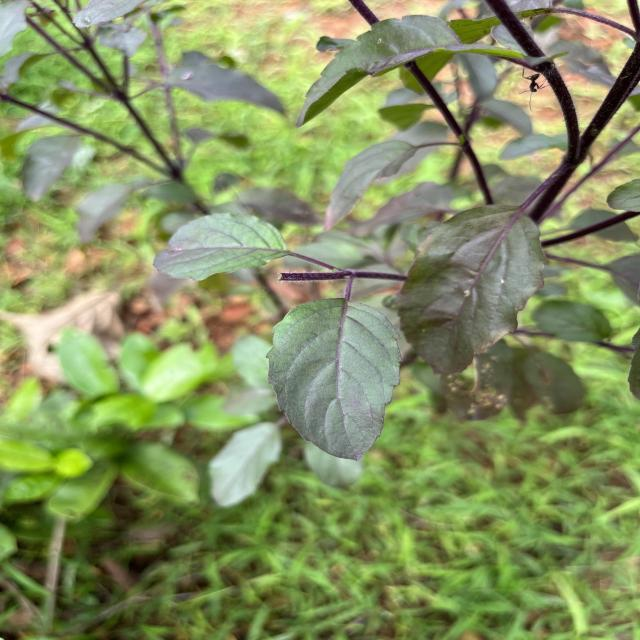Ocimum tenuiflorum: (260, 292, 408, 466)
